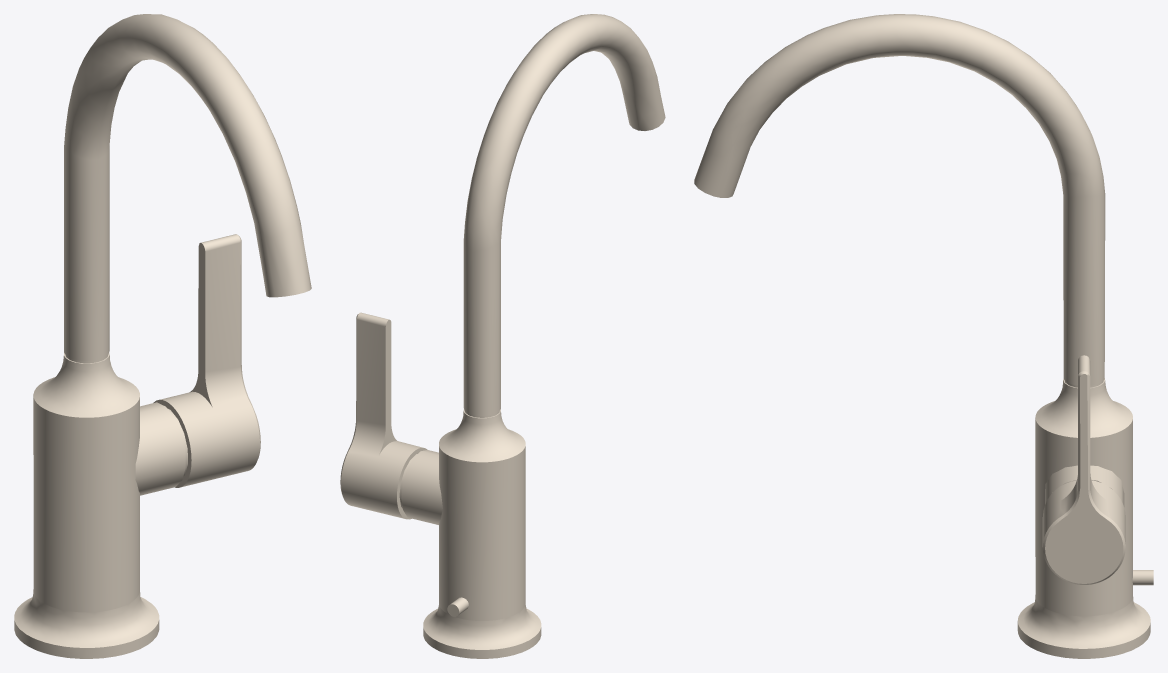
3 renders of one model, left to right at view 1: azimuth 30°, elevation 25°; view 2: azimuth 150°, elevation 25°; view 3: azimuth 270°, elevation 25°, orthographic. The views are drawn at different scales.
Visible parts, largest first — view 1: L_b3fd0373_e40e_47cc_bae9_4134293fa280_I4, L_d158db58_878c_449b_9b62_d961d0724a06_I5, L_7c7dc84a_6811_4aae_b36a_73f8486da92f_I3, L_e933ee48_d21f_4b62_84b1_4d9048b2e1e1_I6; view 2: L_b3fd0373_e40e_47cc_bae9_4134293fa280_I4, L_d158db58_878c_449b_9b62_d961d0724a06_I5, L_7c7dc84a_6811_4aae_b36a_73f8486da92f_I3, L_e933ee48_d21f_4b62_84b1_4d9048b2e1e1_I6; view 3: L_d158db58_878c_449b_9b62_d961d0724a06_I5, L_b3fd0373_e40e_47cc_bae9_4134293fa280_I4, L_7c7dc84a_6811_4aae_b36a_73f8486da92f_I3, L_e933ee48_d21f_4b62_84b1_4d9048b2e1e1_I6.
Boxes of the visible parts, bbox=[...] form: L_b3fd0373_e40e_47cc_bae9_4134293fa280_I4: bbox=[14, 352, 159, 658]; L_d158db58_878c_449b_9b62_d961d0724a06_I5: bbox=[64, 14, 311, 360]; L_7c7dc84a_6811_4aae_b36a_73f8486da92f_I3: bbox=[153, 234, 260, 487]; L_e933ee48_d21f_4b62_84b1_4d9048b2e1e1_I6: bbox=[135, 402, 187, 495]; L_b3fd0373_e40e_47cc_bae9_4134293fa280_I4: bbox=[423, 409, 541, 658]; L_d158db58_878c_449b_9b62_d961d0724a06_I5: bbox=[463, 14, 665, 416]; L_7c7dc84a_6811_4aae_b36a_73f8486da92f_I3: bbox=[340, 312, 427, 519]; L_e933ee48_d21f_4b62_84b1_4d9048b2e1e1_I6: bbox=[399, 450, 442, 524]; L_d158db58_878c_449b_9b62_d961d0724a06_I5: bbox=[694, 14, 1105, 385]; L_b3fd0373_e40e_47cc_bae9_4134293fa280_I4: bbox=[1017, 378, 1150, 658]; L_7c7dc84a_6811_4aae_b36a_73f8486da92f_I3: bbox=[1042, 355, 1125, 584]; L_e933ee48_d21f_4b62_84b1_4d9048b2e1e1_I6: bbox=[1045, 465, 1124, 506].
Size of the model in its own units: 0.1029 by 0.3062 by 0.2073.
